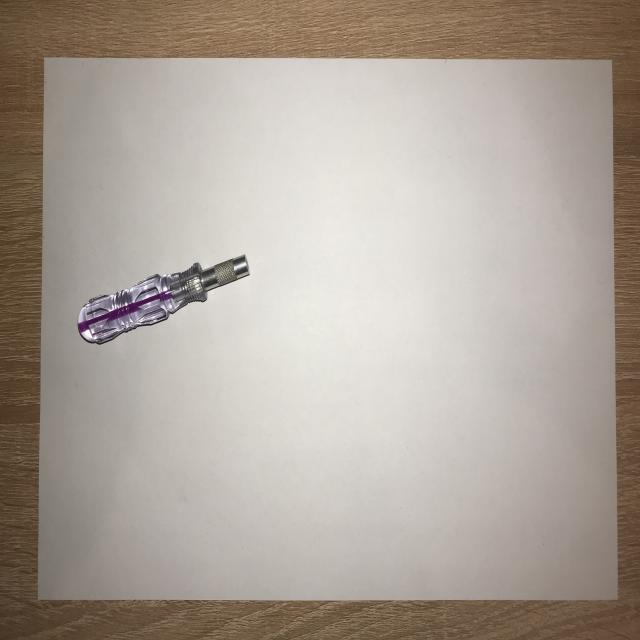screwdriver: (74, 253, 254, 347)
